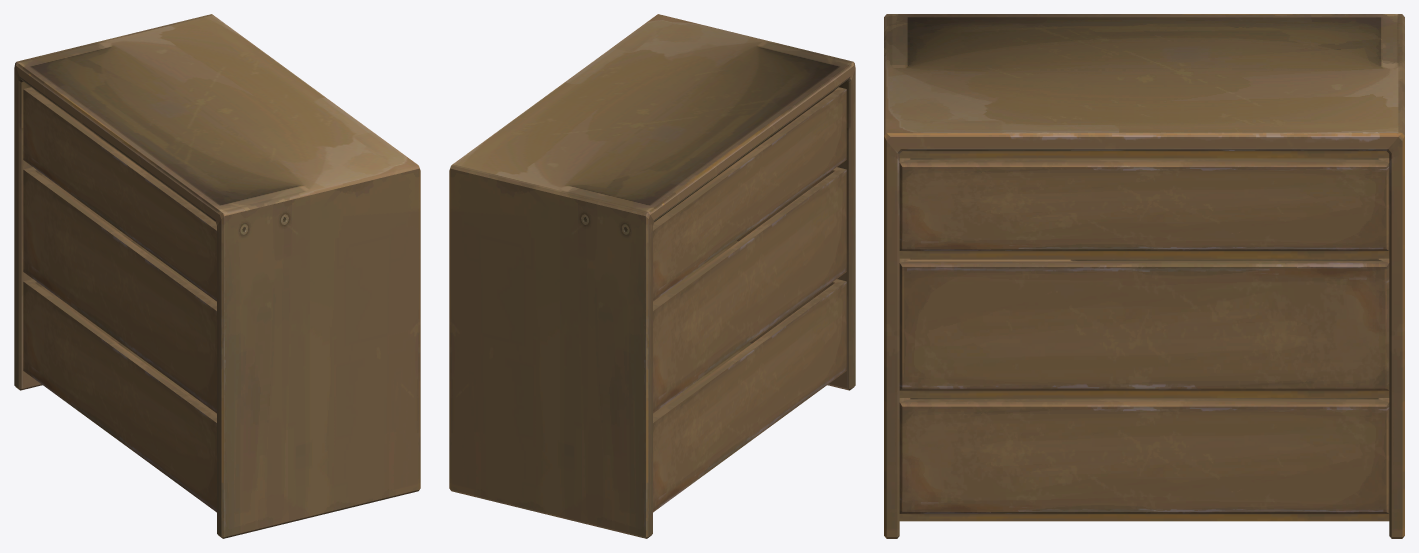
Rendered from Comoda_H2.obj.
3 views of the same model, side by side, from view 1: azimuth 30°, elevation 25°; view 2: azimuth 150°, elevation 25°; view 3: azimuth 270°, elevation 25° (orthographic). The views are drawn at different scales.
Visible parts, largest first — view 1: Comoda_H2; view 2: Comoda_H2; view 3: Comoda_H2.
Part boxes in pixels (left/top/right/bottom): Comoda_H2: left=14, top=14, right=420, bottom=538; Comoda_H2: left=449, top=14, right=855, bottom=538; Comoda_H2: left=884, top=14, right=1404, bottom=538.
Size of the model in its own units: 0.3614 by 0.5644 by 0.656.
Materials: 1 (1 with a texture image).
